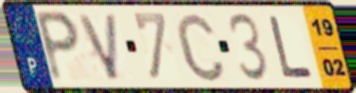3: (228, 11, 270, 83)
7: (131, 10, 170, 83)
C: (173, 9, 228, 84)
L: (266, 14, 316, 81)
P: (32, 8, 82, 85)
V: (75, 11, 122, 83)
